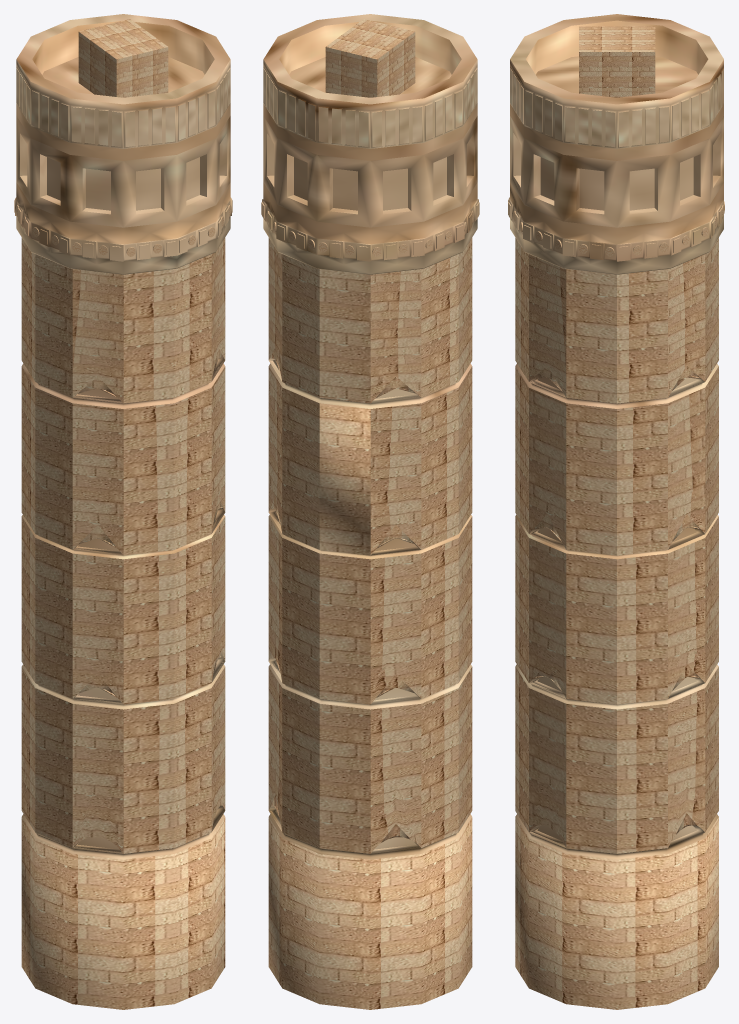
File: pyynikki.obj
3 renders of one model, left to right at view 1: azimuth 30°, elevation 25°; view 2: azimuth 150°, elevation 25°; view 3: azimuth 270°, elevation 25°, orthographic.
Visible parts, largest first — view 1: Cube.025; view 2: Cube.025; view 3: Cube.025.
Boxes of the visible parts, left/top/right/bottom form: Cube.025: left=14, top=14, right=232, bottom=1009; Cube.025: left=261, top=14, right=479, bottom=1009; Cube.025: left=508, top=14, right=724, bottom=1009.
Bounding box in the file's own units: 5.7 × 26.76 × 5.67.
2 materials, 2 textured.
